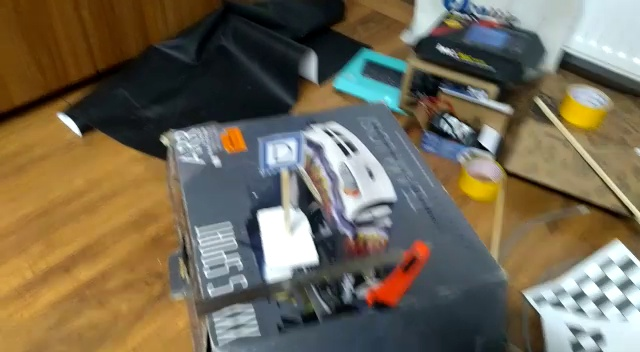durak: (260, 133, 302, 170)
